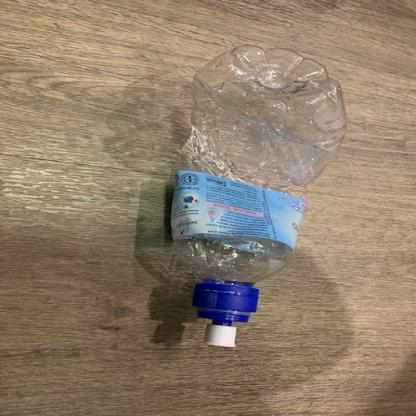trash: (162, 44, 346, 358)
